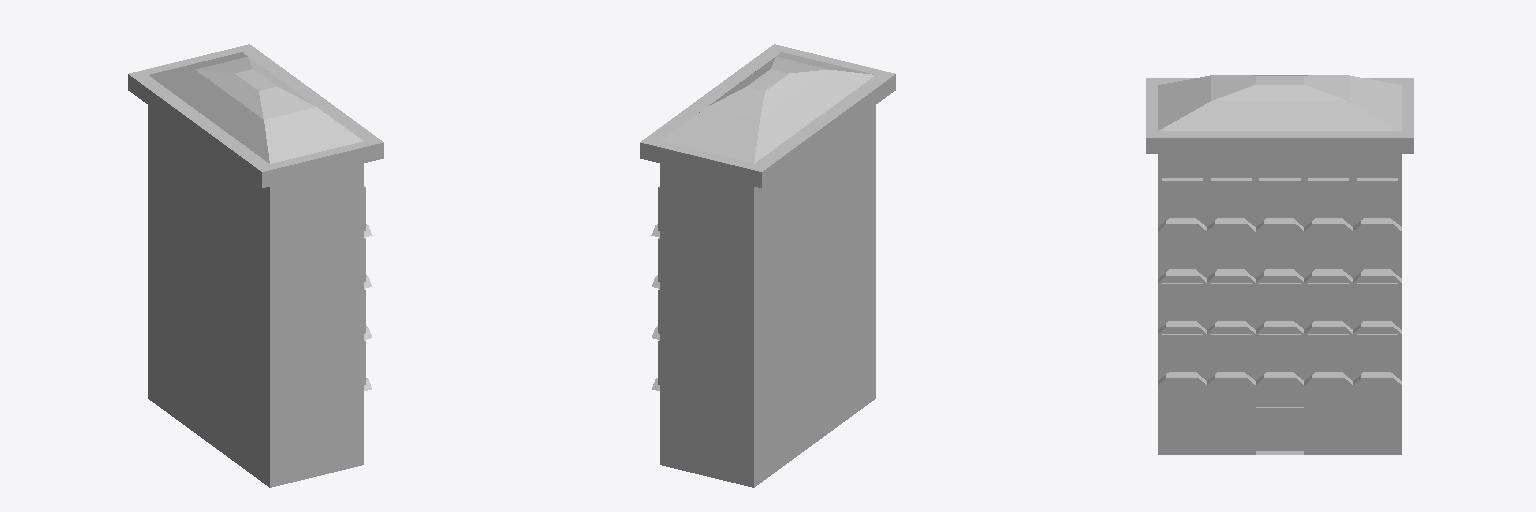
File: medium_house_1.obj
The picture shows the model from 3 angles: view 1: azimuth 30°, elevation 25°; view 2: azimuth 150°, elevation 25°; view 3: azimuth 270°, elevation 25°; orthographic projection.
Parts seen in each view (by area): view 1: Building2; view 2: Building2; view 3: Building2.
Boxes of the visible parts, box(x1,y1,x2,y2) form: Building2: box(128, 44, 383, 487); Building2: box(640, 44, 895, 487); Building2: box(1146, 75, 1413, 454).
Bounding box in the file's own units: 2.6 × 7.17 × 4.96.